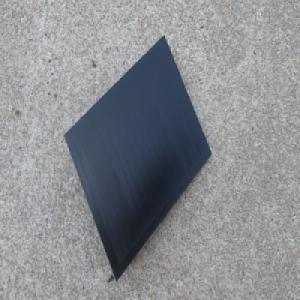PlasticPart: (63, 34, 212, 282)
